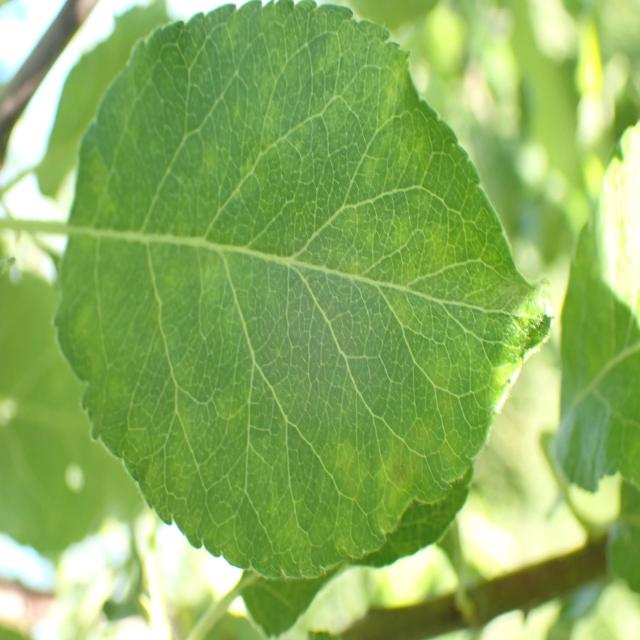scab: (306, 391, 425, 556)
